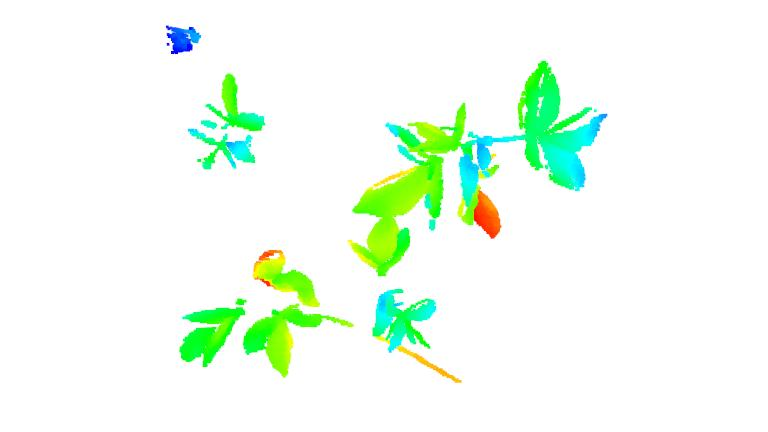mungbean: (352, 59, 607, 221), (175, 249, 326, 379), (347, 216, 438, 357), (184, 75, 272, 177)
